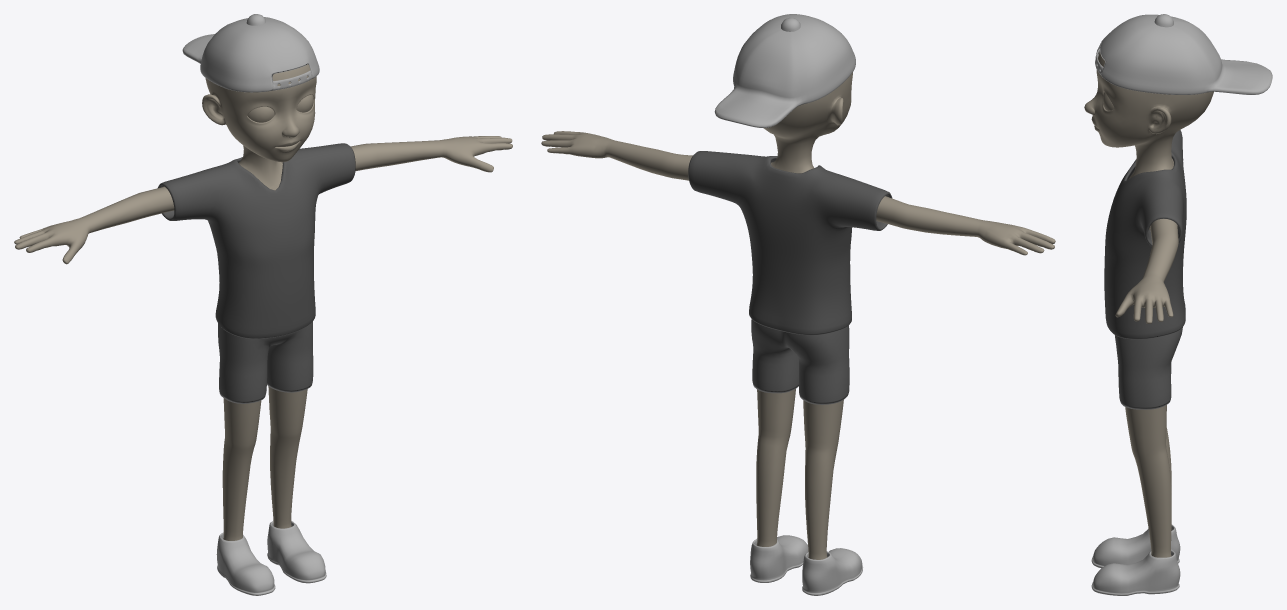
File: Character_1.fbx
The picture shows the model from 3 angles, left to right: view 1: azimuth 30°, elevation 25°; view 2: azimuth 150°, elevation 25°; view 3: azimuth 270°, elevation 25°; orthographic projection. The views are drawn at different scales.
Visible parts, largest first — view 1: Mesh; view 2: Mesh; view 3: Mesh.
Boxes of the visible parts, x1,y1,x2,y2 form: Mesh: (14,14,512,595); Mesh: (541,14,1055,595); Mesh: (1084,14,1272,595).
Bounding box in the file's own units: 105 × 110 × 33.68.
